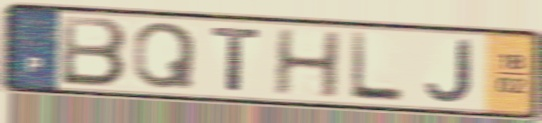B: (58, 13, 130, 90)
H: (270, 27, 343, 101)
J: (423, 38, 474, 105)
L: (347, 29, 406, 105)
Q: (130, 19, 200, 91)
T: (208, 25, 265, 94)
